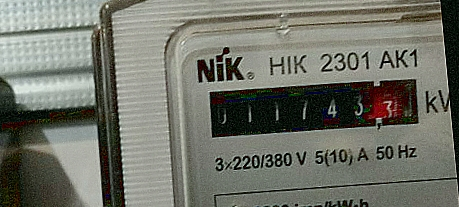0: (213, 98, 229, 126)
1: (240, 96, 256, 125), (268, 94, 283, 123)
3: (349, 90, 365, 119), (379, 97, 396, 120)
4: (323, 94, 339, 120)
7: (295, 94, 311, 121)
screen: (199, 66, 430, 150)
